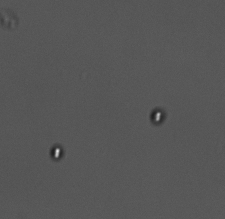Living Cell: (149, 107, 166, 124), (49, 144, 64, 160)
